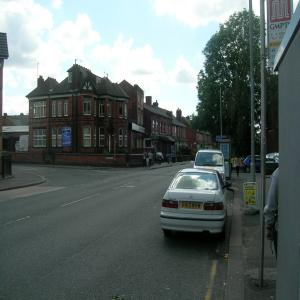Vehicle-registration-plate: (181, 202, 203, 211)
